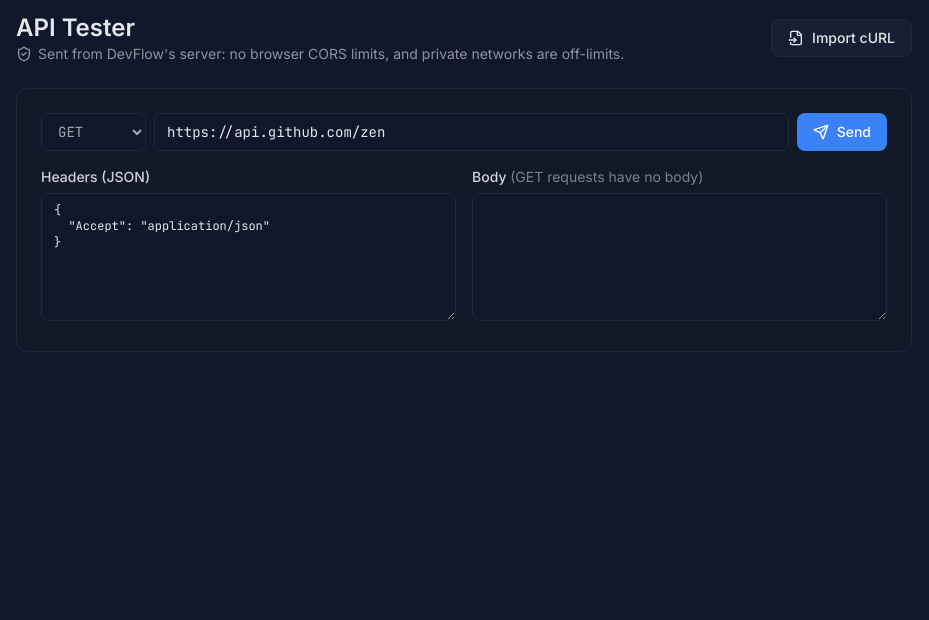
Scenario: ApiTesterPage › sends through the server and shows status, timing, pretty body and headers
Replace the text in the field named "URL" with "https://api.example.com/items/9" at (471, 132), box x1=154 y1=113 x2=789 y2=151
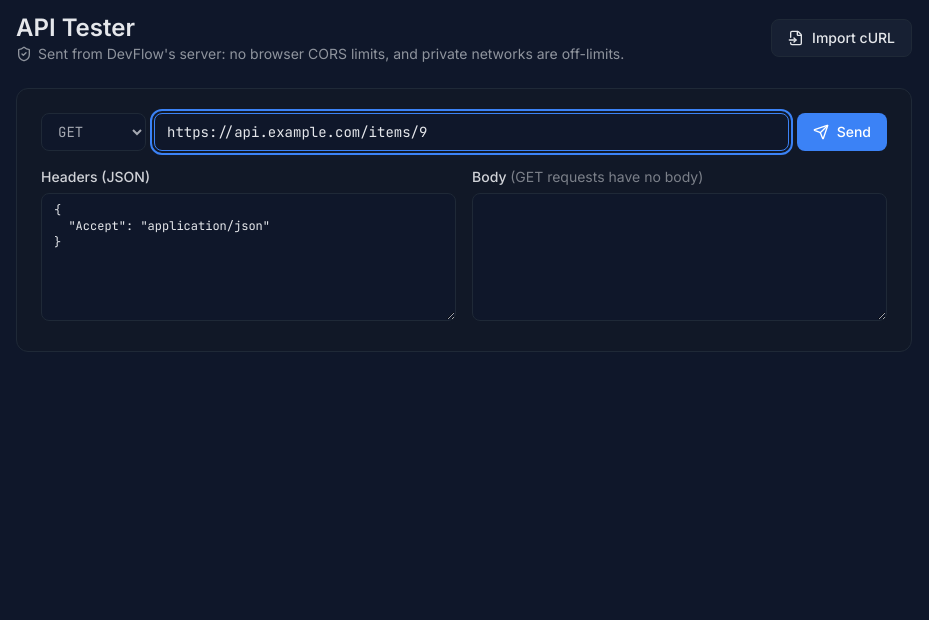
Click the button "Send" at (842, 132), box x1=797 y1=113 x2=887 y2=151
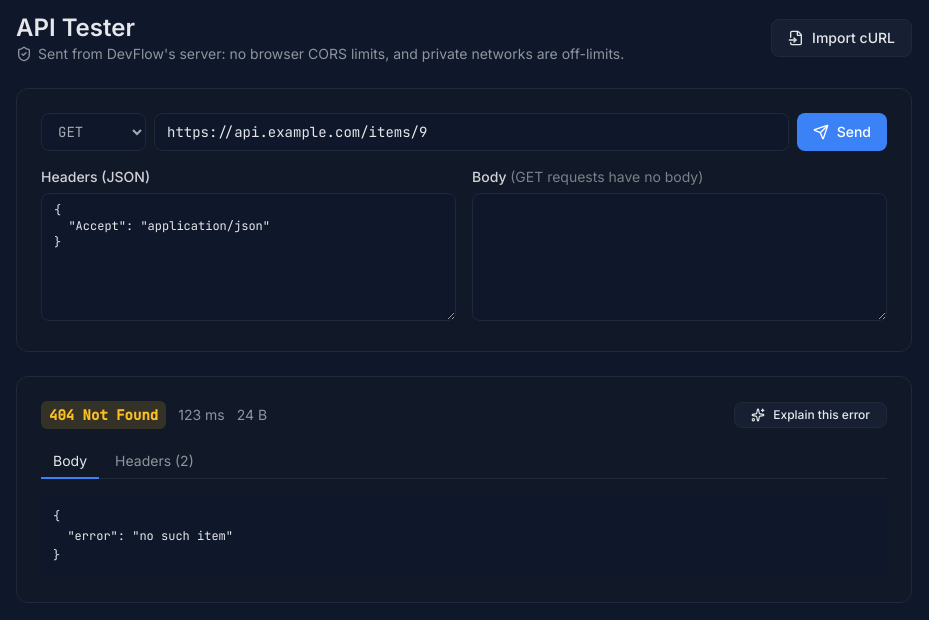
Result: the text "404 Not Found" is shown at x1=41 y1=401 x2=166 y2=429
Result: the text "123 ms" is shown at x1=178 y1=405 x2=225 y2=425
Click the tab "headers (2)" at (154, 462), box x1=103 y1=445 x2=206 y2=479
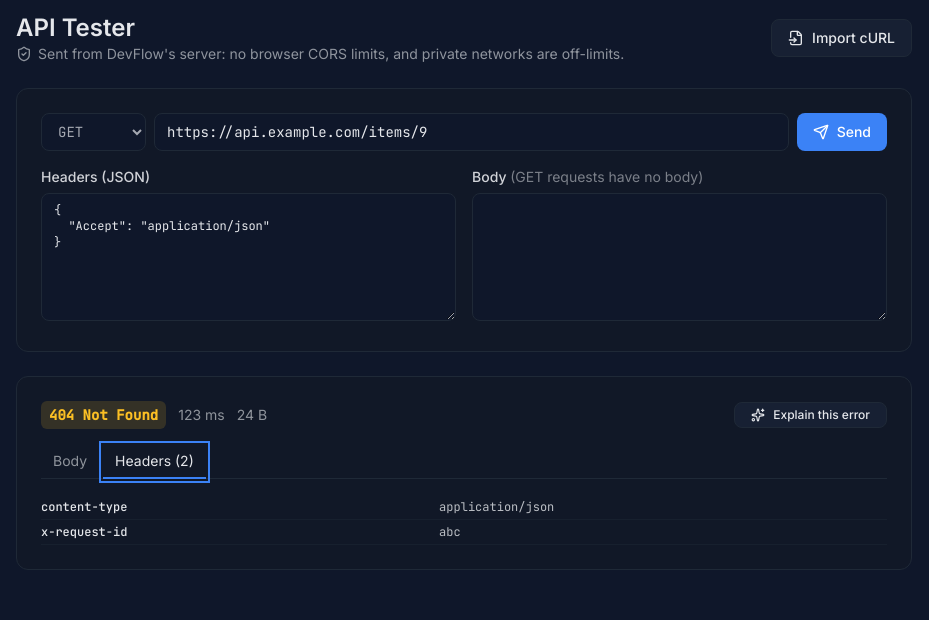
Result: the column heading "x-request-id" is shown at x1=41 y1=520 x2=439 y2=544
